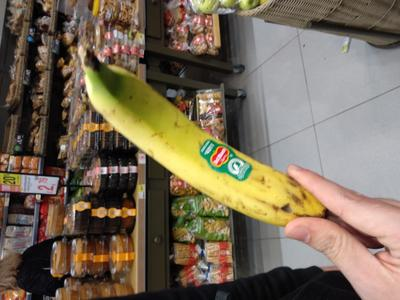banana: (0, 0, 400, 300)
